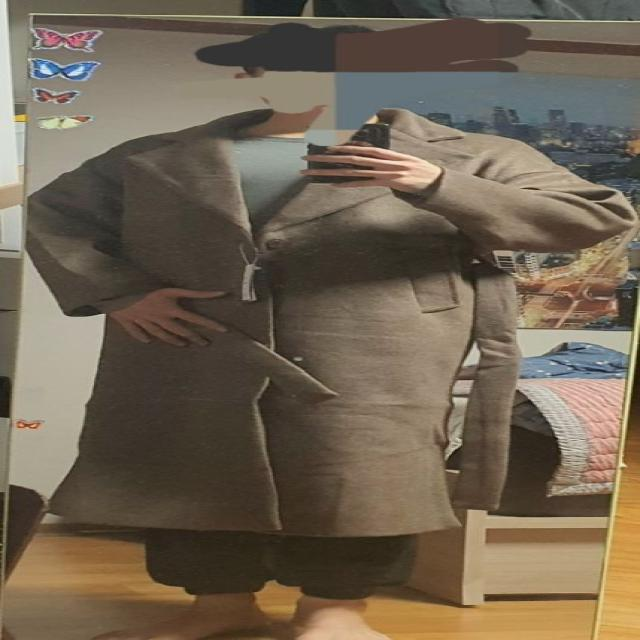coat: (27, 118, 639, 538)
trainingpants: (147, 528, 420, 600)
